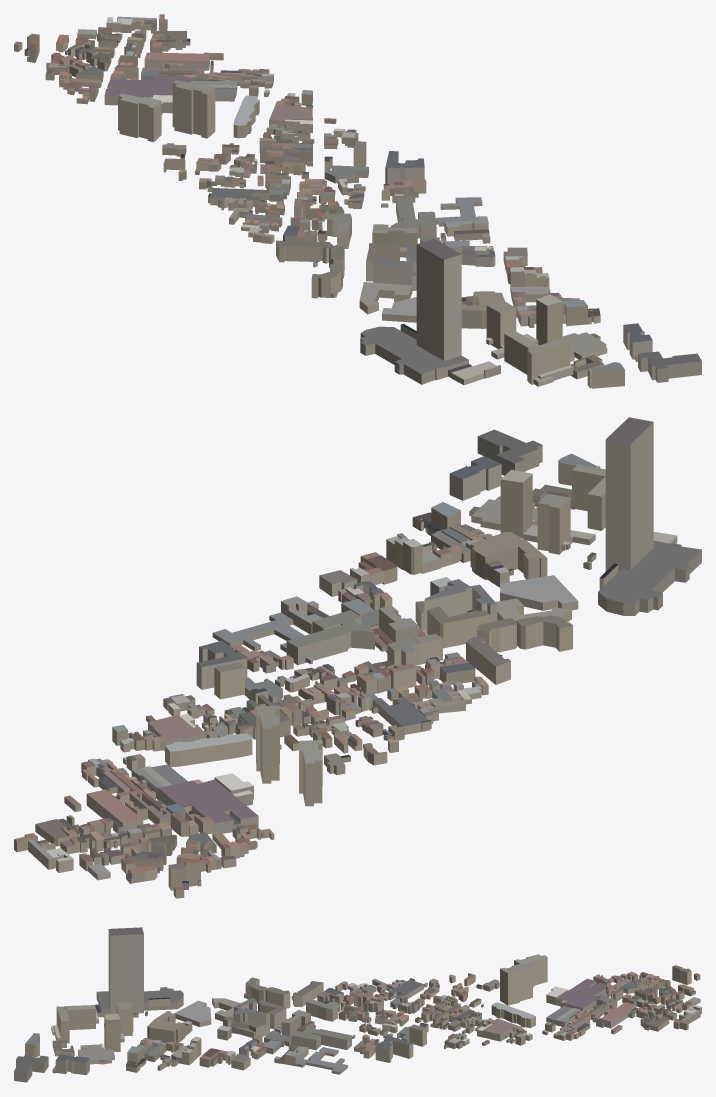
3 renders of one model, top to bottom at view 1: azimuth 30°, elevation 25°; view 2: azimuth 150°, elevation 25°; view 3: azimuth 270°, elevation 25°, orthographic. The views are drawn at different scales.
Parts seen in each view (by area): view 1: tuile; view 2: tuile; view 3: tuile.
Boxes of the visible parts, bbox=[...] form: tuile: bbox=[14, 14, 701, 388]; tuile: bbox=[14, 417, 701, 898]; tuile: bbox=[14, 927, 701, 1082].
Bounding box in the file's own units: 294 × 133 × 995.
